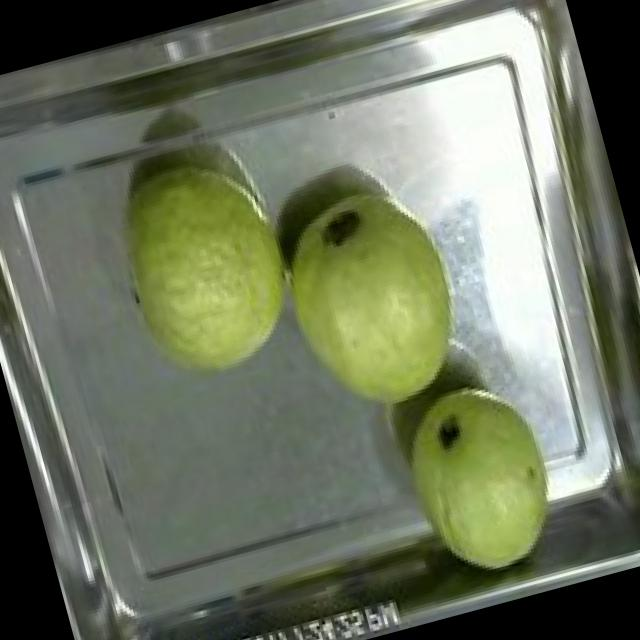Fruit: (252, 154, 494, 438), (94, 133, 326, 401), (371, 357, 583, 603)
